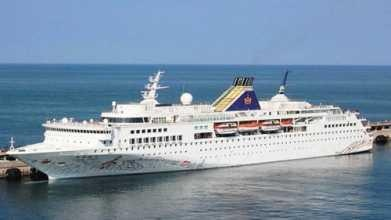youlun: (11, 61, 385, 183)
